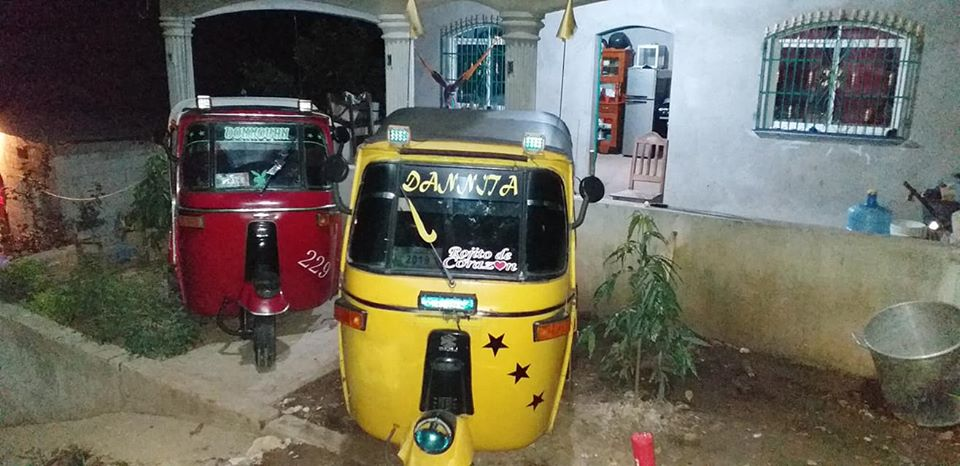mototaxi: (345, 104, 584, 466), (161, 84, 336, 381)
